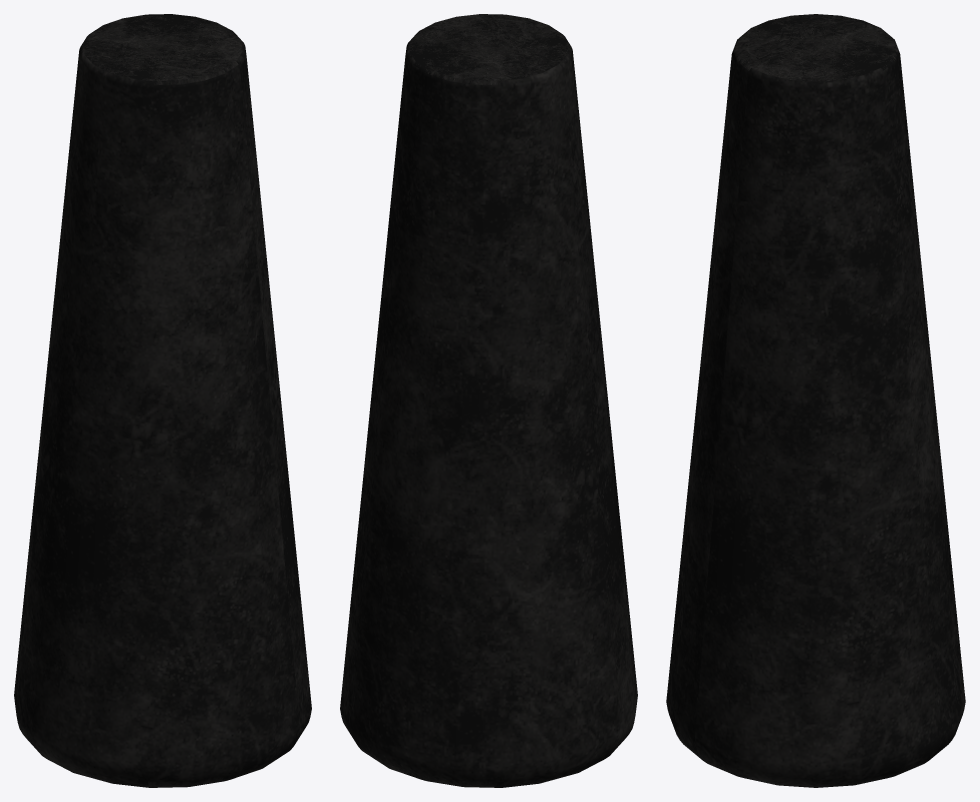
The model's file is pestle.fbx.
3 renders of one model, left to right at view 1: azimuth 30°, elevation 25°; view 2: azimuth 150°, elevation 25°; view 3: azimuth 270°, elevation 25°, orthographic.
Visible parts, largest first — view 1: Pestle; view 2: Pestle; view 3: Pestle.
Boxes of the visible parts, left/top/right/bottom form: Pestle: left=14, top=14, right=311, bottom=787; Pestle: left=340, top=14, right=637, bottom=787; Pestle: left=666, top=14, right=965, bottom=787.
Bounding box in the file's own units: 7.24 × 18.68 × 7.24.
Materials: 1 (1 with a texture image).
